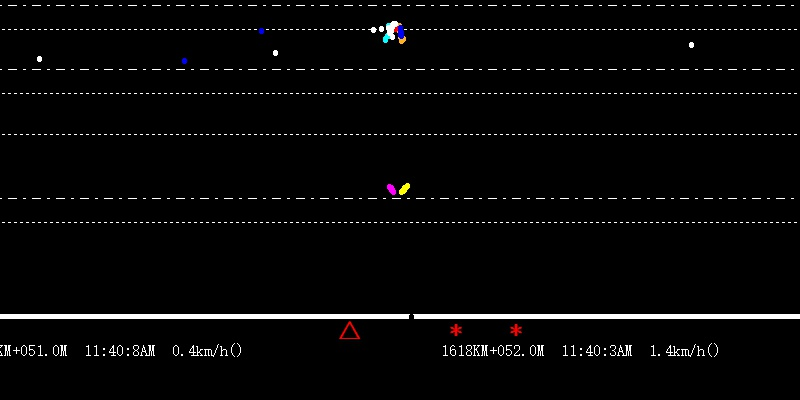face_2: (384, 18, 406, 46)
star: (448, 321, 465, 339), (509, 321, 523, 338)
